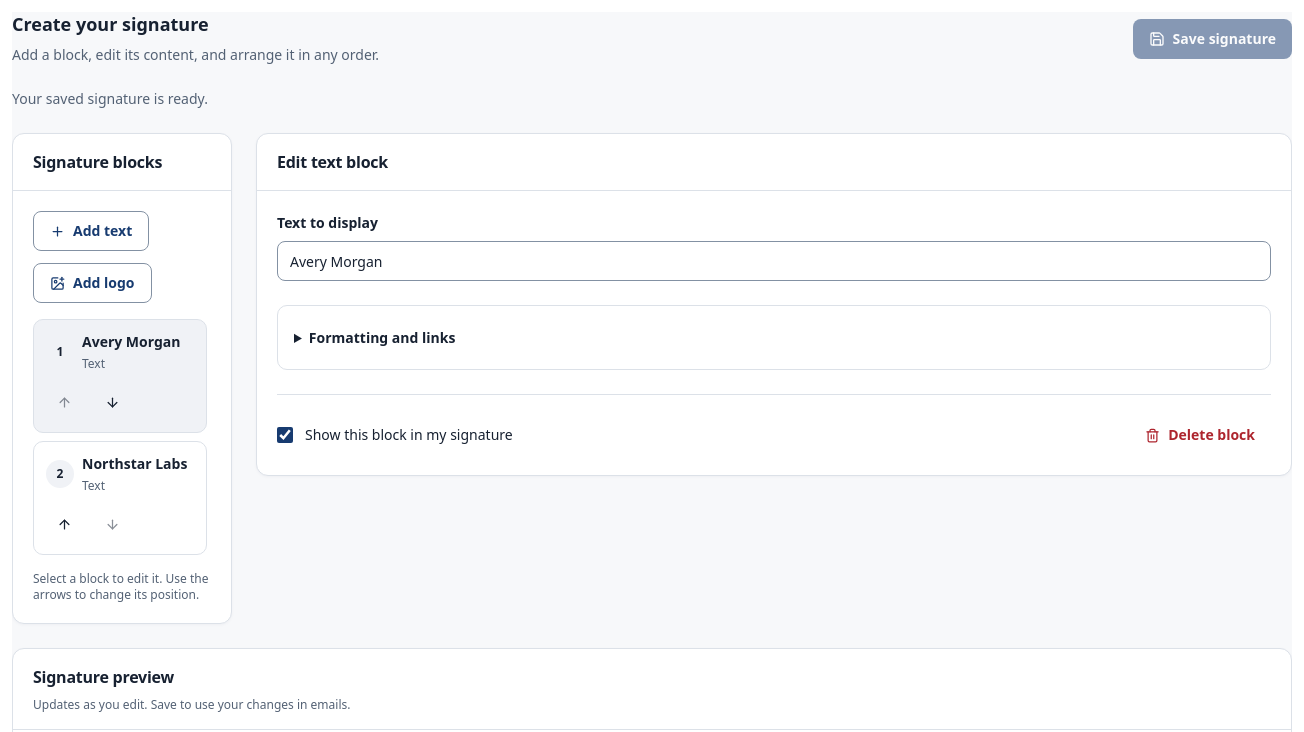
Test: focused signature block editor › reorders existing blocks without overwriting their unsaved text
Replace the text in the field labelled "Text to display" with "Unsaved Avery" at (774, 261), box x1=277 y1=241 x2=1271 y2=281
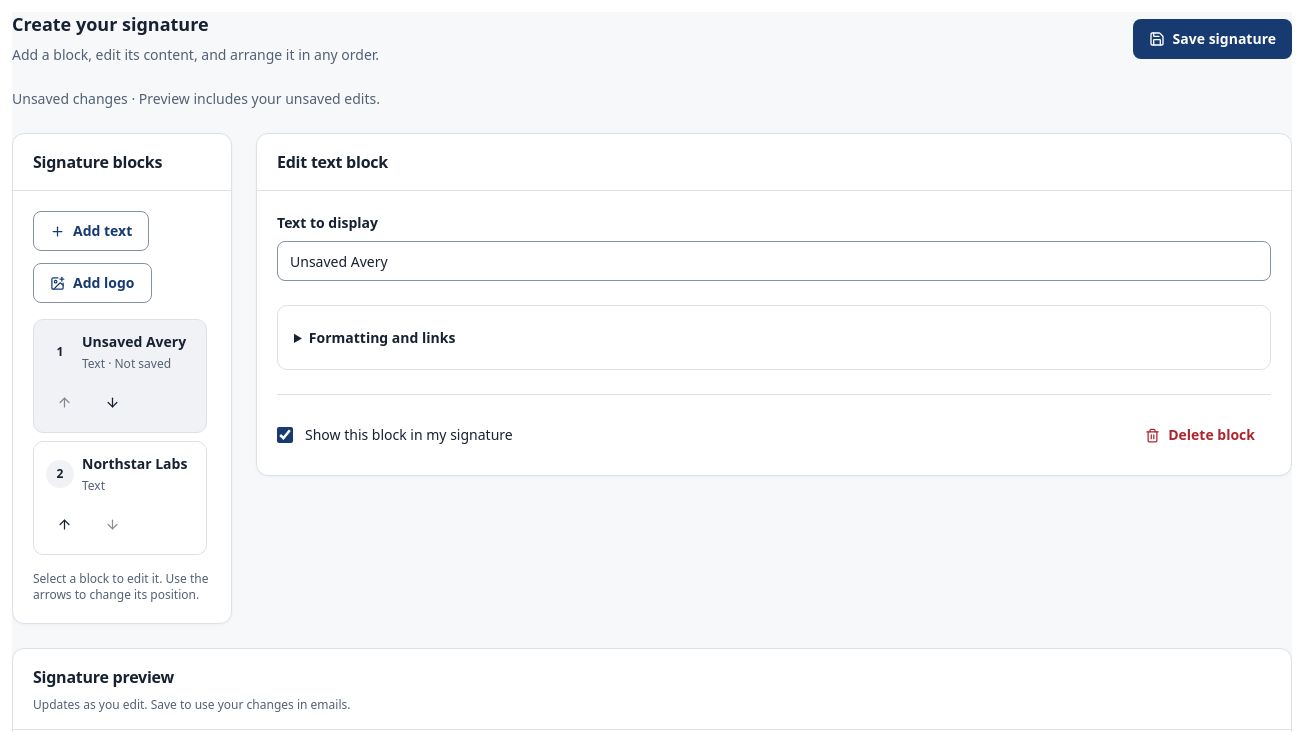
Click the button named "Move block 1 down" at (112, 402), box x1=90 y1=380 x2=134 y2=424
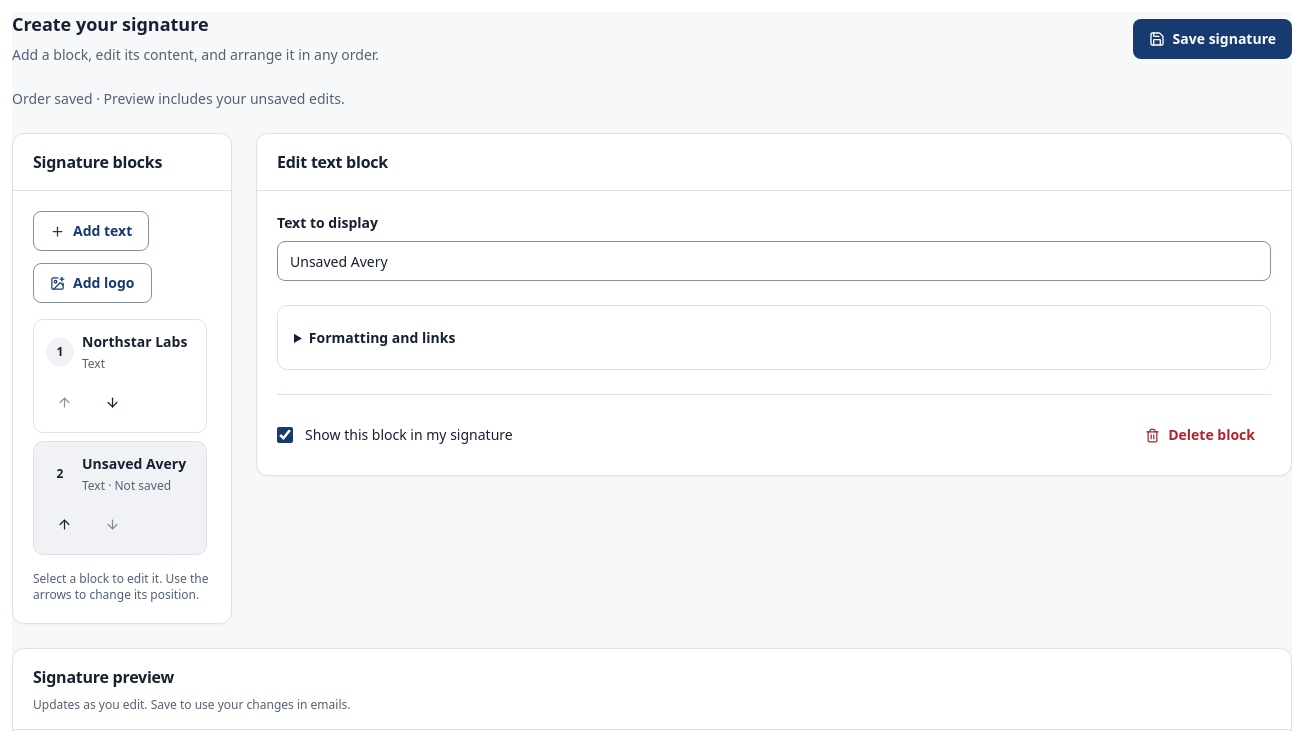
Expected: the button "Save signature" is enabled, x1=1133 y1=19 x2=1292 y2=59
Expected: the message shows "Order saved", x1=12 y1=89 x2=92 y2=108
